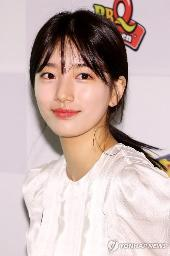face: (34, 41, 106, 135)
